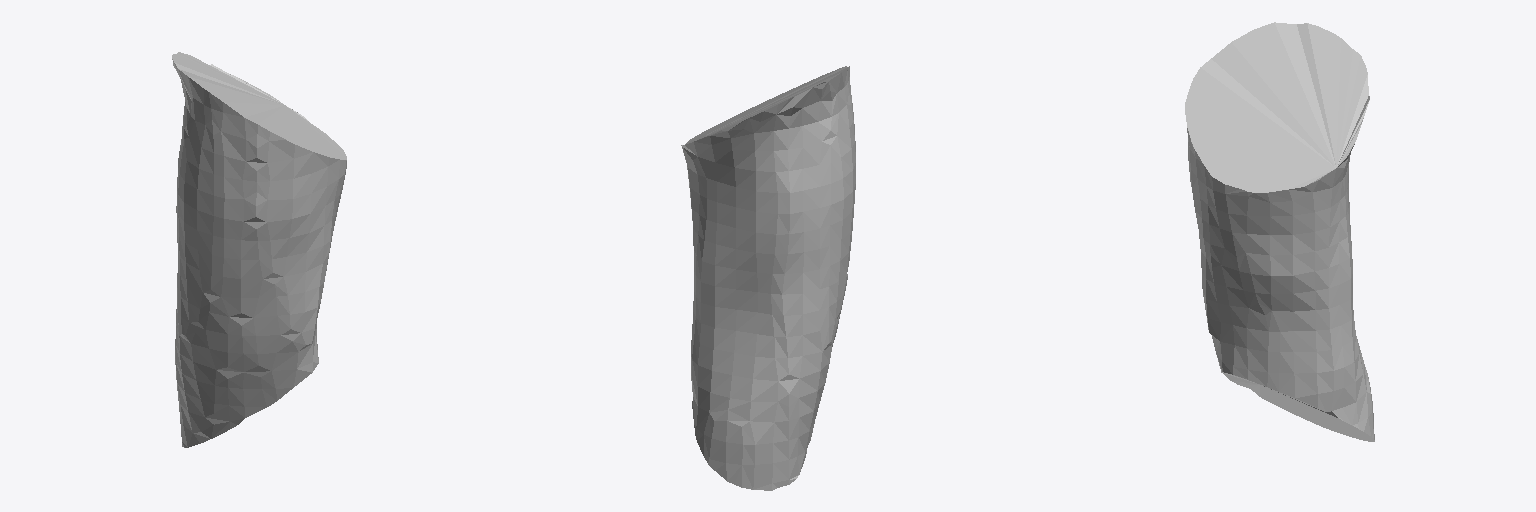
File: low_cell_040.obj
3 views of the same model, side by side, from view 1: azimuth 30°, elevation 25°; view 2: azimuth 150°, elevation 25°; view 3: azimuth 270°, elevation 25° (orthographic).
Parts seen in each view (by area): view 1: low_cell.040_low_cell.039; view 2: low_cell.040_low_cell.039; view 3: low_cell.040_low_cell.039.
Part boxes in pixels (x1,y1,x2,y2): low_cell.040_low_cell.039: (172, 52, 346, 447); low_cell.040_low_cell.039: (681, 66, 855, 490); low_cell.040_low_cell.039: (1185, 22, 1374, 441).
Bounding box in the file's own units: 0.1514 × 0.3894 × 0.1674.